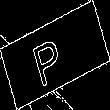P_N: (36, 25, 74, 85)
